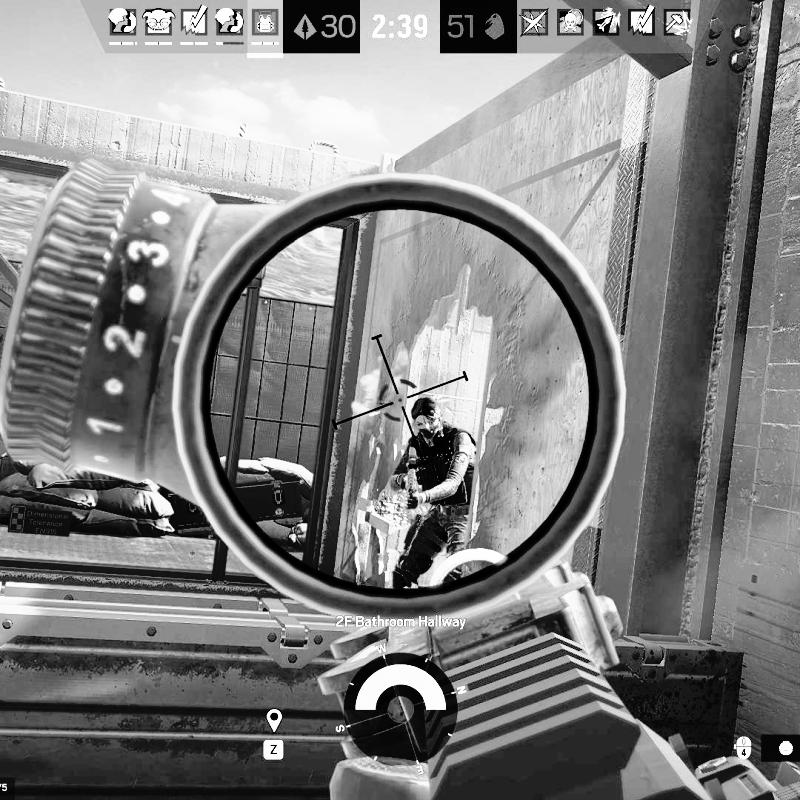Character: (389, 395, 477, 590)
Head: (410, 396, 443, 440)
